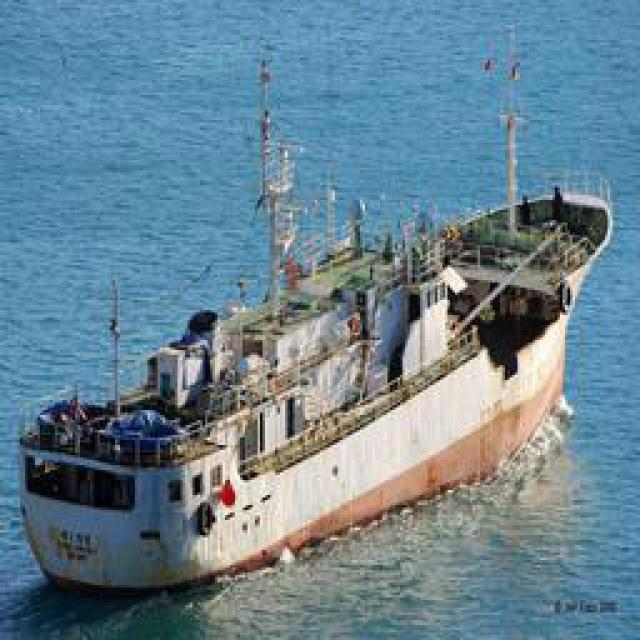Ship: (10, 54, 605, 599)
